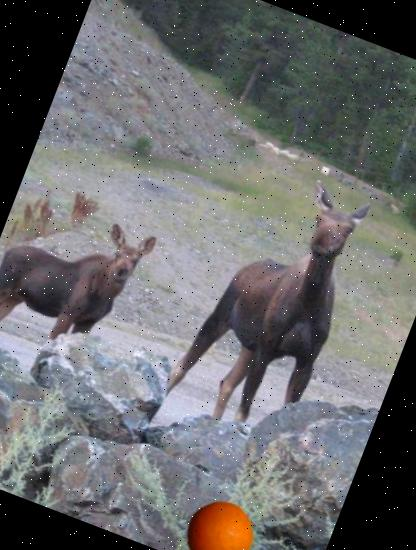Orange: (176, 491, 261, 550)
